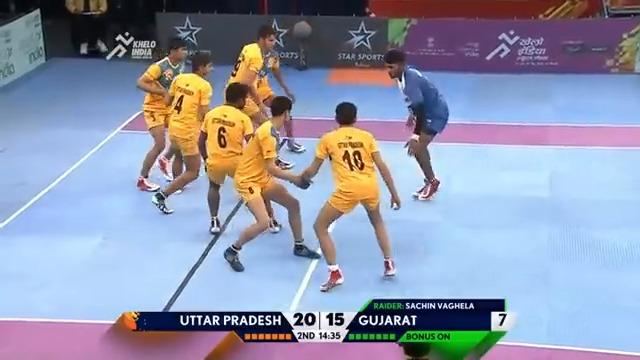Player: (298, 101, 401, 291), (223, 95, 321, 272), (197, 81, 292, 234), (150, 50, 214, 214), (225, 24, 305, 153), (135, 37, 188, 192)
Raider: (382, 47, 449, 200)
